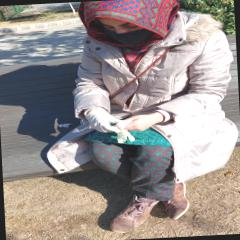gloved: (86, 108, 118, 134)
not-gloved: (122, 112, 164, 133)
